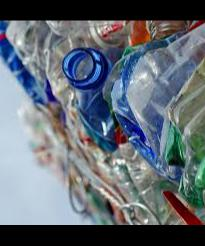Plastic: (0, 21, 204, 224)
